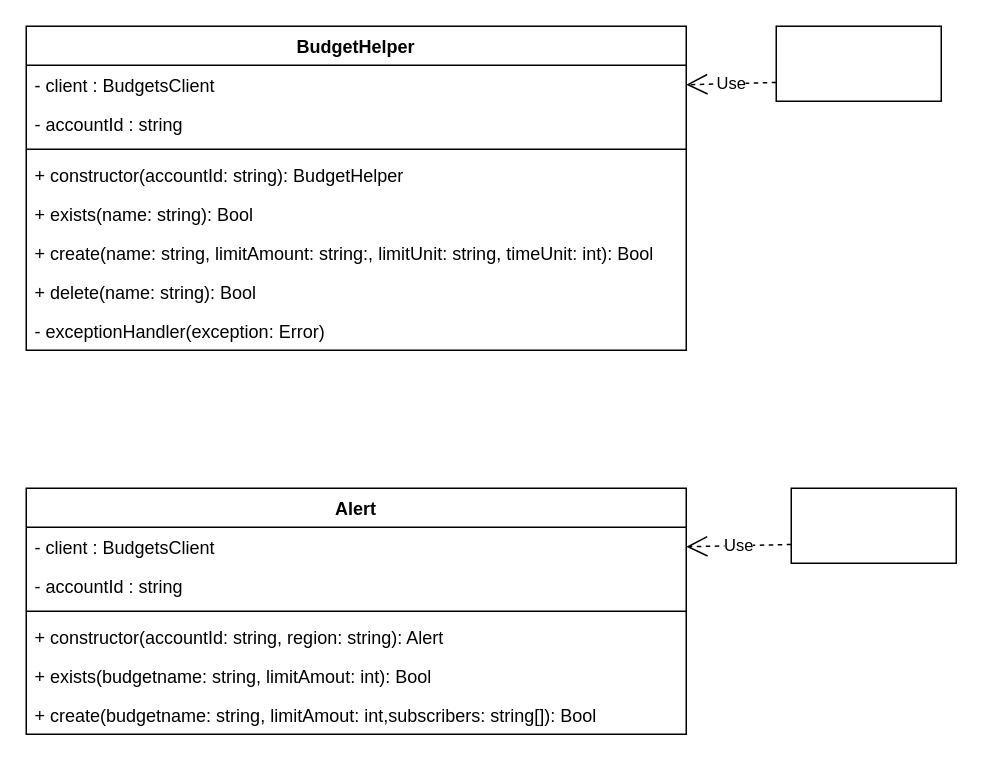
The diagram is 983 pixels wide and 765 high, and some of its shapes have lost their labels. Here are the shapes that lost their labels. From the top down, the box of each, then its label:
(775, 25, 941, 101): budjet.test.js
(790, 487, 956, 563): alert.test.js
